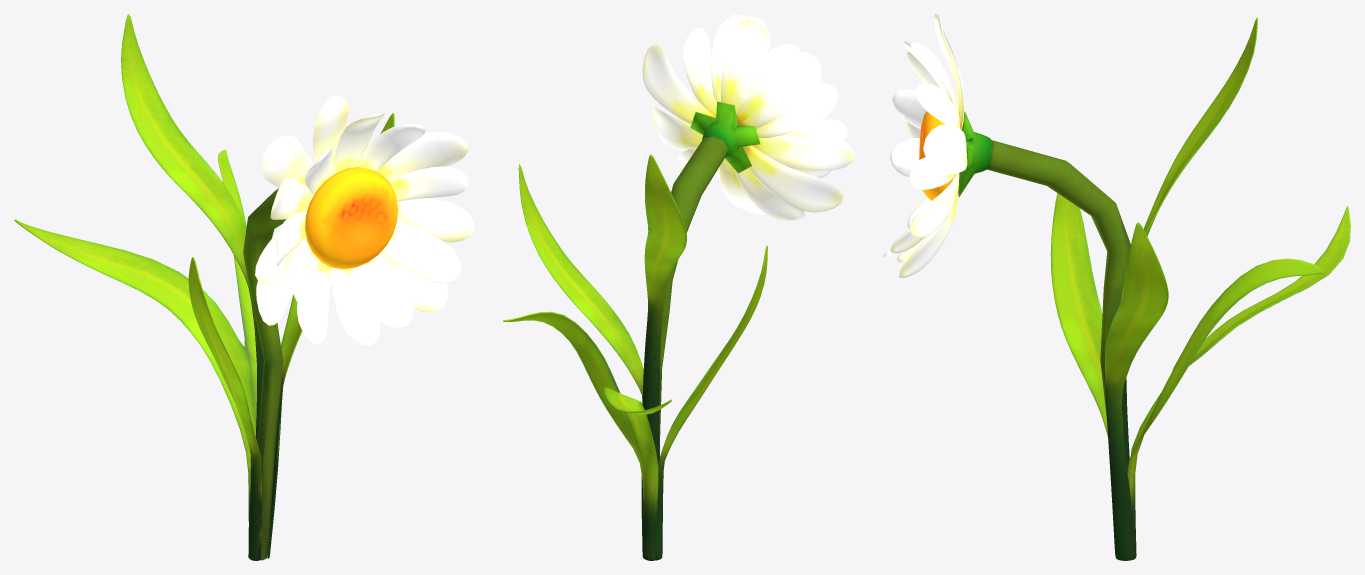
File: whitef.glb
3 renders of one model, left to right at view 1: azimuth 30°, elevation 25°; view 2: azimuth 150°, elevation 25°; view 3: azimuth 270°, elevation 25°, orthographic. The views are drawn at different scales.
Parts seen in each view (by area): view 1: White Flower; view 2: White Flower; view 3: White Flower.
Boxes of the visible parts, x1,y1,x2,y2 form: White Flower: (14,14,474,560); White Flower: (503,14,854,560); White Flower: (883,14,1350,560).
Bounding box in the file's own units: 3.01 × 5.62 × 4.47.
1 material, 1 textured.
